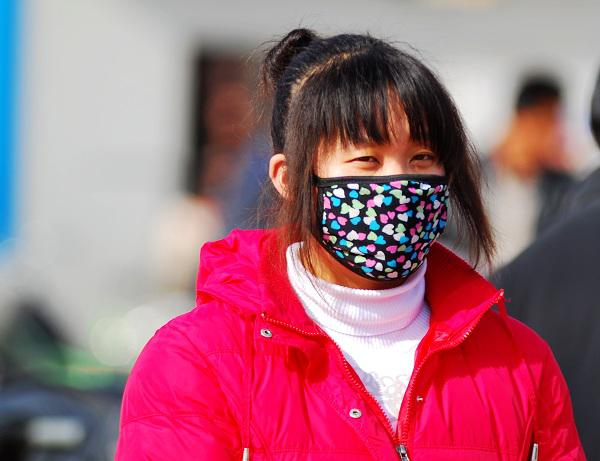OK: (318, 129, 464, 275)
